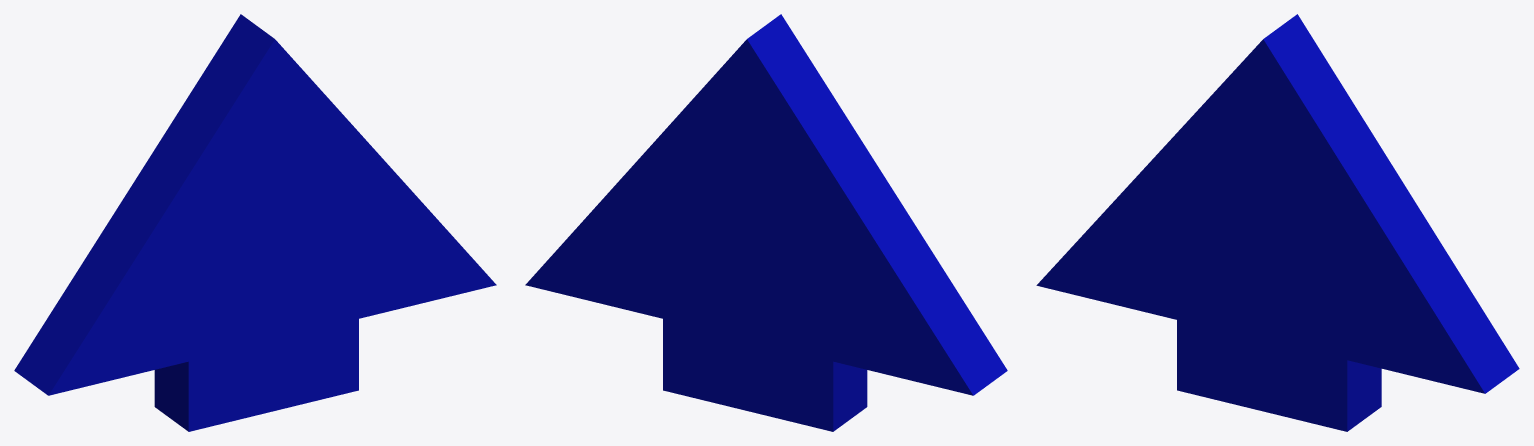
File: Joystick_element_4.FBX
3 views of the same model, side by side, from view 1: azimuth 30°, elevation 25°; view 2: azimuth 150°, elevation 25°; view 3: azimuth 330°, elevation 25° (orthographic).
Parts seen in each view (by area): view 1: Joystick_element_4; view 2: Joystick_element_4; view 3: Joystick_element_4.
Boxes of the visible parts, bbox=[...] form: Joystick_element_4: bbox=[14, 14, 496, 431]; Joystick_element_4: bbox=[525, 14, 1007, 431]; Joystick_element_4: bbox=[1036, 14, 1519, 431].
Size of the model in its own units: 22.66 by 17.96 by 3.
